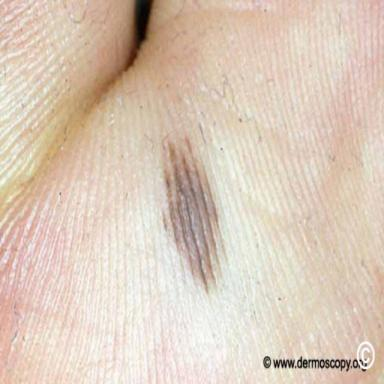Melanoma: (162, 134, 223, 291)
